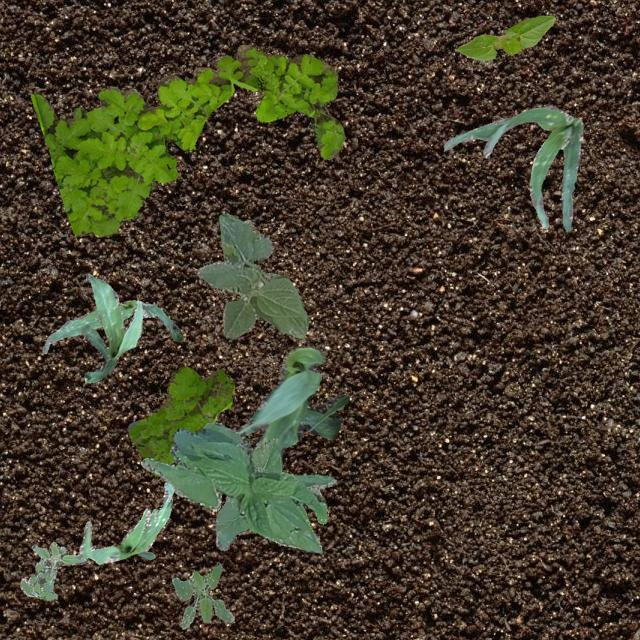crop: (215, 346, 348, 550), (140, 421, 334, 552), (442, 104, 582, 230), (195, 212, 308, 338), (76, 482, 172, 562), (42, 298, 182, 352), (80, 273, 142, 382), (214, 437, 280, 532), (456, 15, 554, 60)
weed: (29, 44, 344, 235), (128, 364, 234, 476), (170, 562, 233, 628), (19, 540, 86, 600)
